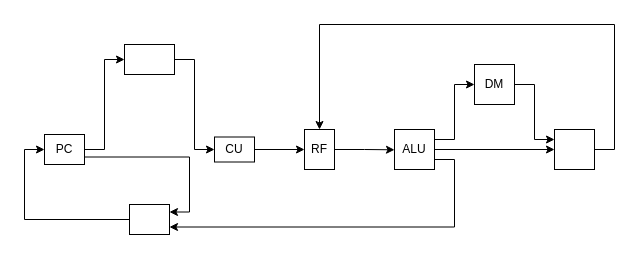
Image size: 640x253. Some labels were removed from this diagram. The centre of each missing label's shape, as x and y in pixels:
IM: (x=149, y=59)
MUX: (x=574, y=149)
NPC: (x=149, y=219)
